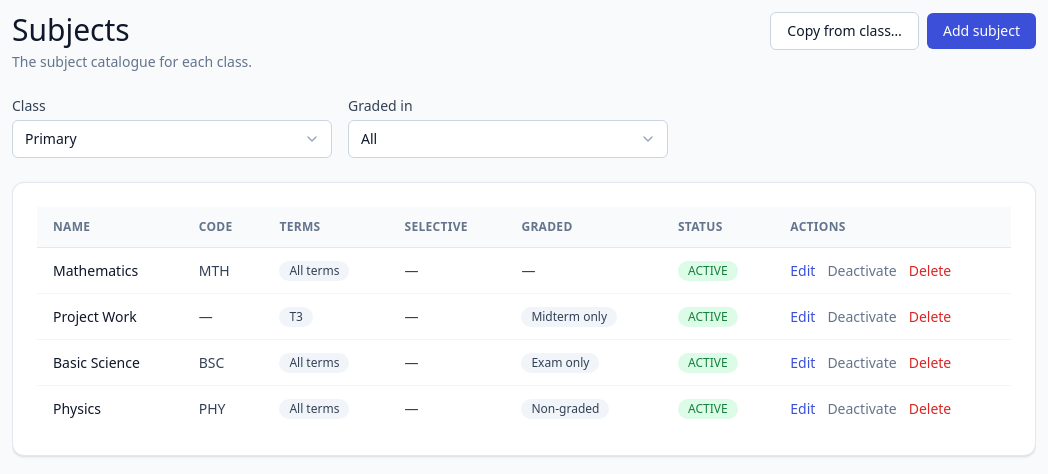
Test: SubjectsPage › filters subjects by the period they're graded in, showing non-graded ones only under All
Expected: the text "Mathematics" is shown, [37,248,183,294]
Select "Midterm only" in the dropdown labelled "Graded in" at (508, 139), box [348,120,668,158]
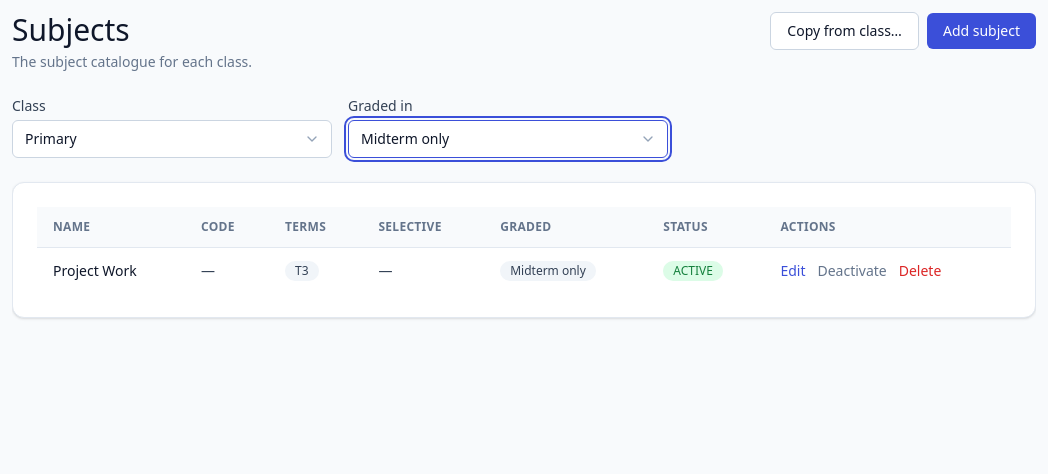
Expected: the text "Mathematics" is gone
Expected: the text "Basic Science" is gone
Expected: the text "Physics" is gone
Select "Exam only" in the dropdown labelled "Graded in" at (508, 139), box [348,120,668,158]
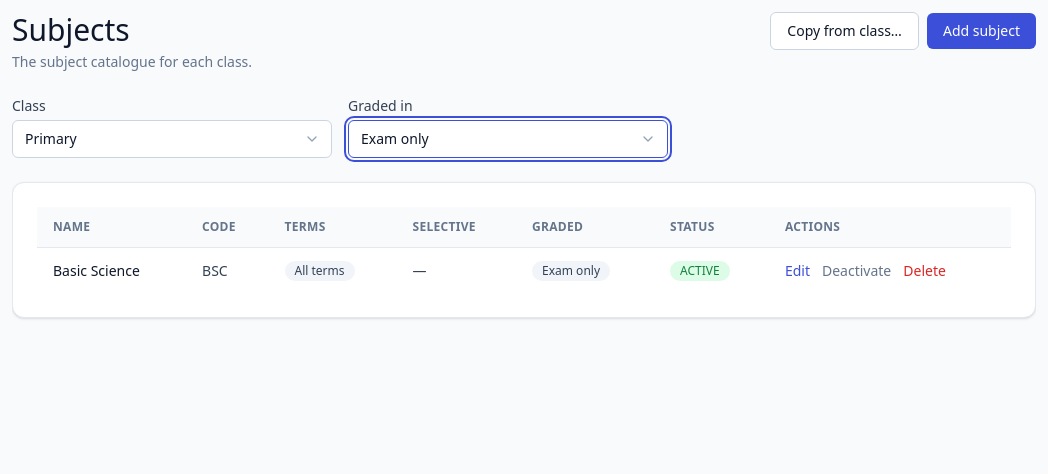
Expected: the text "Physics" is not shown
Expected: the text "Basic Science" is shown, [37,248,186,293]
Expected: the text "Project Work" is gone
Select "Midterm and exam" in the dropdown labelled "Graded in" at (508, 139), box [348,120,668,158]
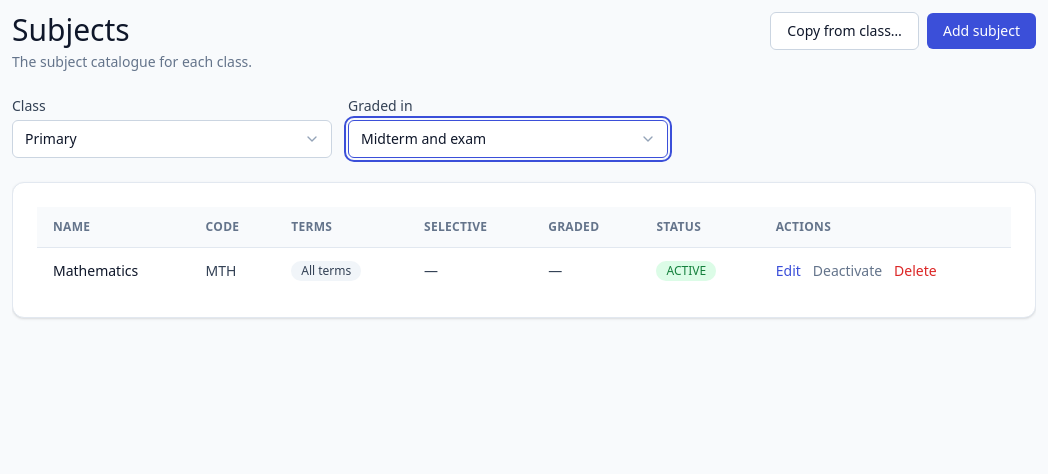
Expected: the text "Physics" is not shown
Expected: the text "Mathematics" is shown, [37,248,190,293]
Expected: the text "Basic Science" is gone
Select "All" in the dropdown labelled "Graded in" at (508, 139), box [348,120,668,158]
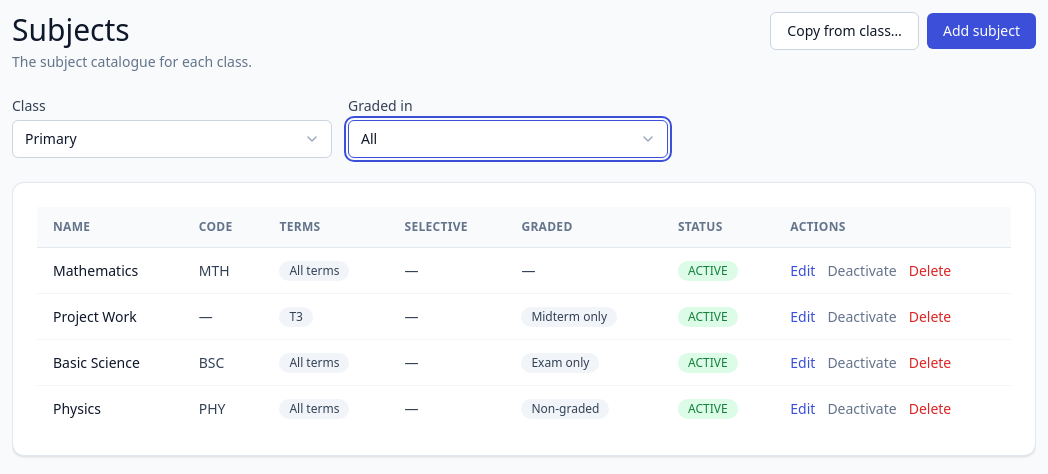
Expected: the text "Mathematics" is shown, [37,248,183,294]
Expected: the text "Project Work" is shown, [37,294,183,340]
Expected: the text "Basic Science" is shown, [37,340,183,386]
